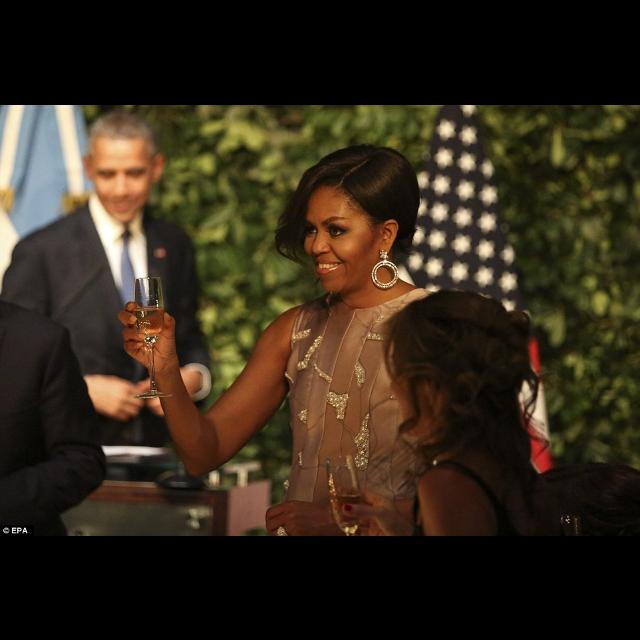head: (385, 290, 507, 448), (302, 143, 420, 295), (82, 109, 168, 221)
